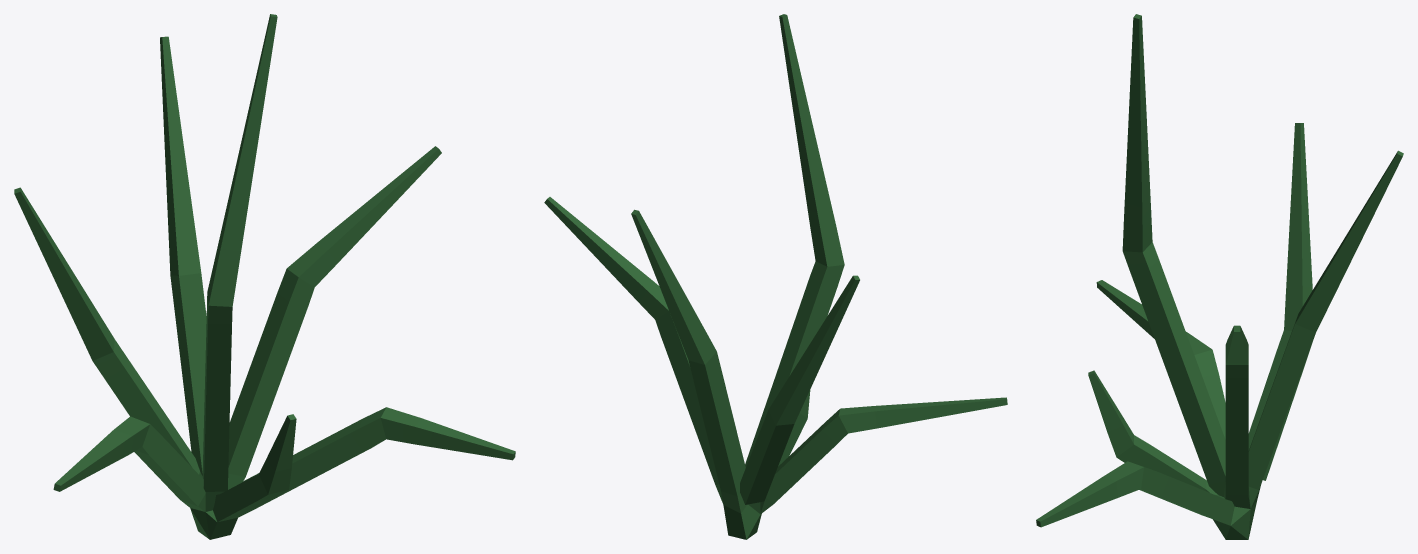
Rendered from TaigaGrass.fbx.
The picture shows the model from 3 angles, left to right: view 1: azimuth 30°, elevation 25°; view 2: azimuth 150°, elevation 25°; view 3: azimuth 270°, elevation 25°; orthographic projection. The views are drawn at different scales.
Visible parts, largest first — view 1: TaigaGrass; view 2: TaigaGrass; view 3: TaigaGrass.
Boxes of the visible parts, x1,y1,x2,y2 form: TaigaGrass: [14, 14, 515, 539]; TaigaGrass: [544, 14, 1007, 539]; TaigaGrass: [1036, 14, 1403, 539].
Bounding box in the file's own units: 0.6387 × 0.7393 × 0.4718.
